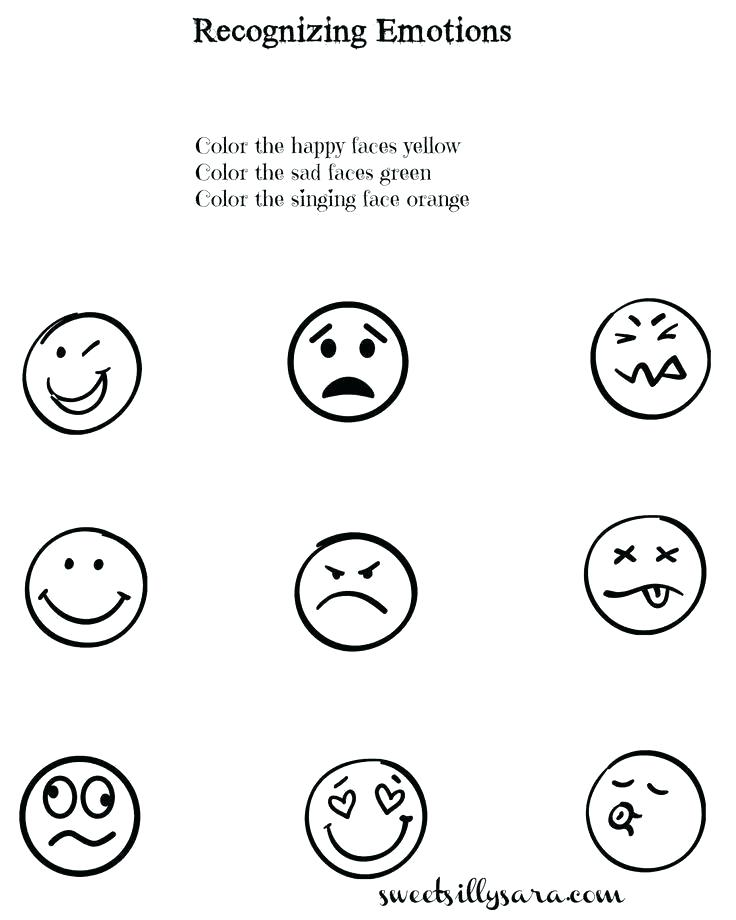feliz: (18, 524, 173, 669), (15, 316, 157, 447), (298, 758, 436, 880), (38, 554, 133, 627), (49, 341, 117, 414)
